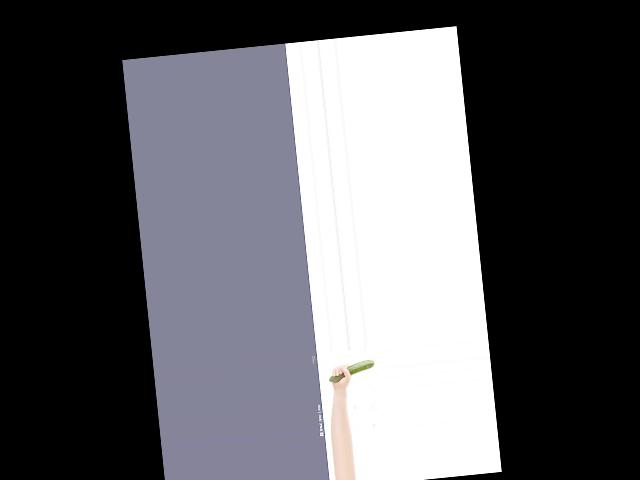cucumber: (327, 359, 375, 381)
